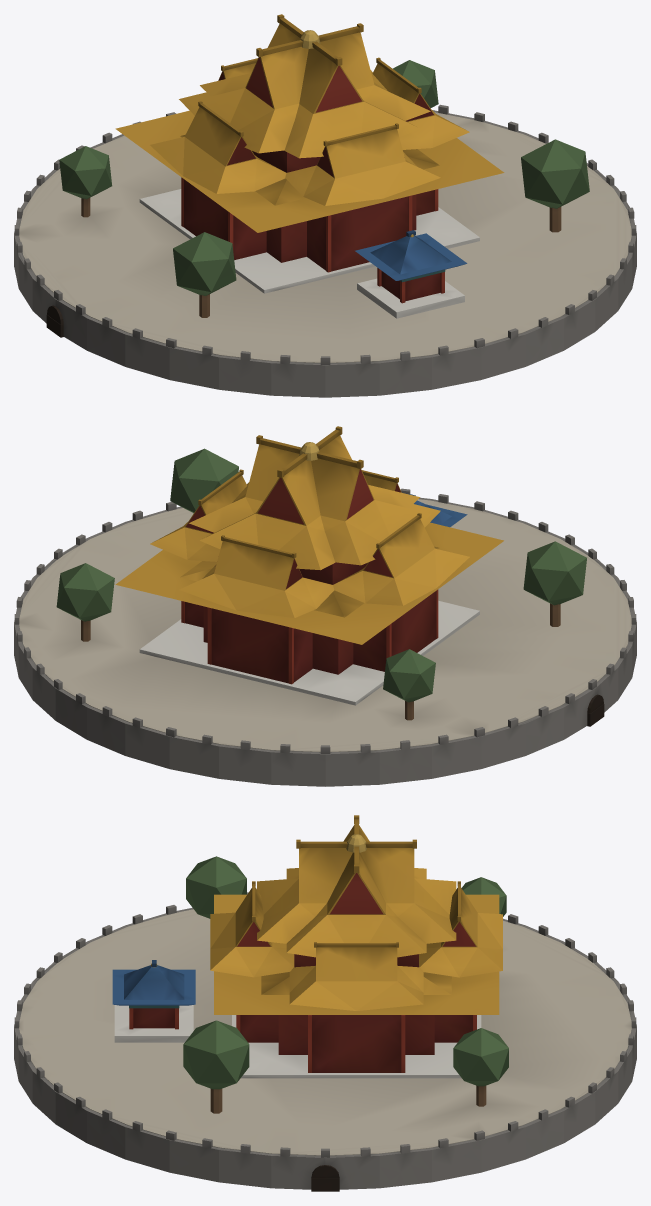
The model's file is tuancheng.glb.
The picture shows the model from 3 angles, top to bottom: view 1: azimuth 30°, elevation 25°; view 2: azimuth 150°, elevation 25°; view 3: azimuth 270°, elevation 25°; orthographic projection.
Visible parts, largest first — view 1: p0_terrace, p1_halls, p2_trees; view 2: p0_terrace, p1_halls, p2_trees; view 3: p0_terrace, p1_halls, p2_trees.
Boxes of the visible parts, bbox=[...] form: p0_terrace: bbox=[14, 104, 636, 397]; p1_halls: bbox=[115, 14, 504, 318]; p2_trees: bbox=[59, 60, 589, 317]; p0_terrace: bbox=[14, 488, 636, 786]; p1_halls: bbox=[115, 426, 503, 705]; p2_trees: bbox=[56, 448, 586, 720]; p0_terrace: bbox=[14, 892, 636, 1191]; p1_halls: bbox=[112, 815, 502, 1078]; p2_trees: bbox=[183, 856, 508, 1113].
Bounding box in the file's own units: 80.6 × 31.79 × 80.
